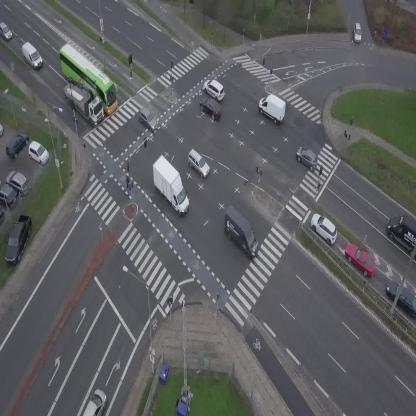bicycle: (123, 175, 133, 194)
bus: (48, 41, 128, 115)
car: (339, 238, 381, 282), (305, 209, 343, 247), (194, 92, 228, 124), (182, 148, 214, 179), (291, 143, 323, 173), (200, 75, 229, 104), (82, 388, 112, 416), (135, 106, 162, 133), (0, 20, 14, 42), (353, 22, 362, 43)
lorry: (141, 153, 201, 218), (213, 205, 268, 260), (56, 75, 112, 129), (253, 89, 291, 126), (387, 215, 416, 258), (17, 40, 47, 69)
